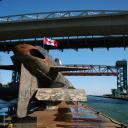submarine: (2, 37, 81, 112)
